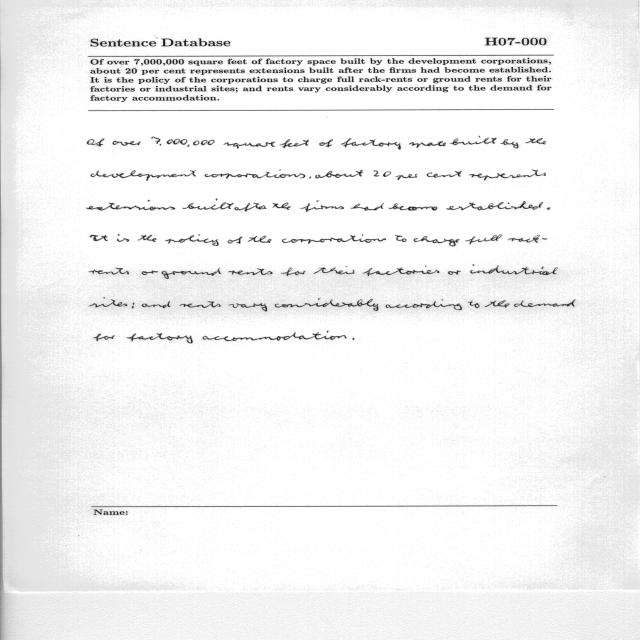word: (203, 331, 347, 341), (275, 298, 379, 311), (91, 170, 196, 181), (282, 234, 386, 244), (205, 170, 305, 179), (87, 200, 175, 210), (470, 265, 558, 275), (446, 201, 543, 210), (469, 170, 546, 181), (386, 299, 462, 310), (363, 266, 440, 276), (341, 138, 401, 150), (126, 333, 193, 343), (162, 268, 221, 279), (165, 234, 219, 246), (151, 137, 215, 147), (182, 199, 234, 210), (514, 300, 575, 308), (300, 201, 344, 212), (414, 236, 460, 246), (315, 170, 363, 179), (450, 136, 497, 145), (89, 298, 127, 308), (466, 235, 503, 245), (224, 142, 275, 149), (229, 303, 267, 312), (389, 204, 437, 211), (314, 266, 355, 274), (228, 268, 273, 275), (508, 235, 547, 243), (179, 301, 221, 308), (235, 203, 267, 212), (350, 203, 384, 211), (280, 139, 309, 148), (409, 141, 446, 148), (427, 171, 462, 178), (90, 268, 129, 274), (142, 301, 171, 308), (281, 268, 306, 276), (485, 300, 509, 308), (248, 236, 272, 243), (94, 334, 115, 342), (501, 139, 519, 148), (87, 139, 105, 147), (113, 141, 141, 146), (272, 203, 291, 210), (138, 235, 157, 242), (525, 138, 546, 144), (374, 170, 392, 177), (396, 174, 417, 180), (319, 139, 333, 147), (228, 236, 242, 244), (90, 235, 108, 241), (117, 234, 129, 242), (141, 270, 158, 275), (395, 235, 407, 242), (468, 301, 480, 308), (448, 270, 460, 275), (132, 303, 135, 309), (547, 208, 550, 210), (309, 177, 311, 179), (353, 338, 355, 340)
